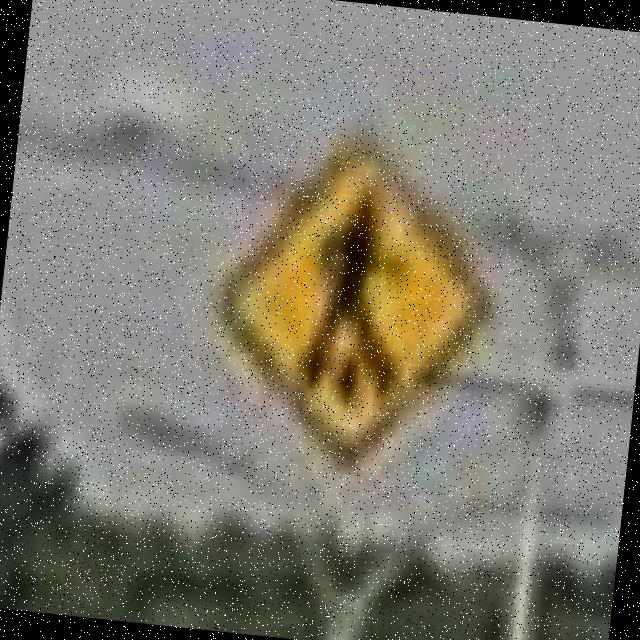Przejscie dla pieszych: (227, 142, 494, 458)
